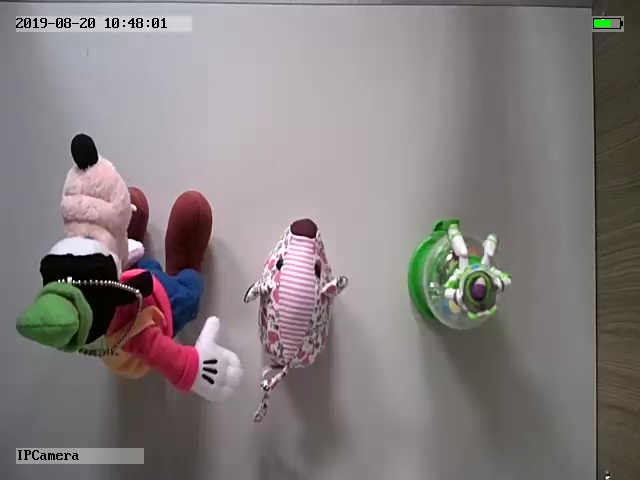buzz: (404, 215, 513, 335)
goofy: (14, 132, 243, 423)
pig: (240, 204, 350, 420)
